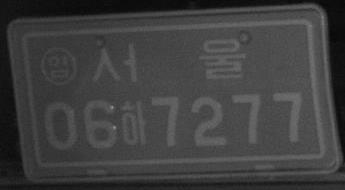0: (43, 100, 78, 151)
2: (191, 95, 228, 148)
6: (82, 99, 118, 150)
7: (272, 90, 305, 143), (230, 92, 262, 144), (150, 95, 180, 147)
서울_D: (90, 37, 247, 84)
영: (39, 46, 77, 86)
하: (120, 99, 147, 148)
